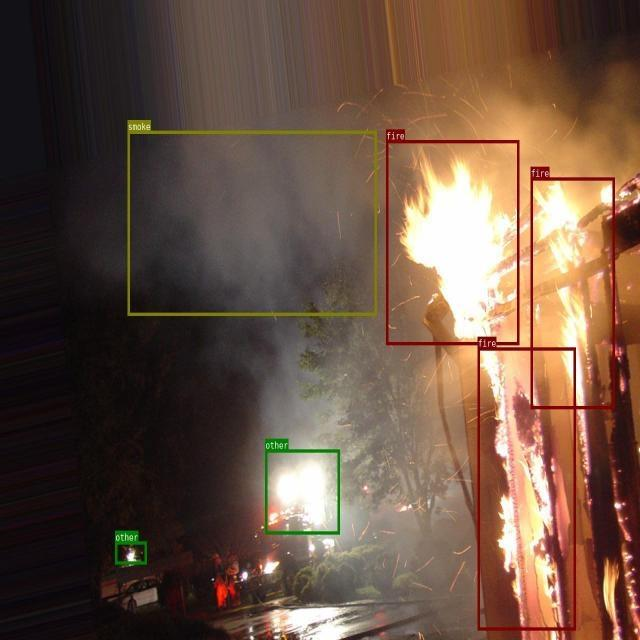fire: (478, 347, 576, 630), (386, 140, 519, 345), (531, 177, 615, 408)
smoke: (127, 130, 376, 315)
